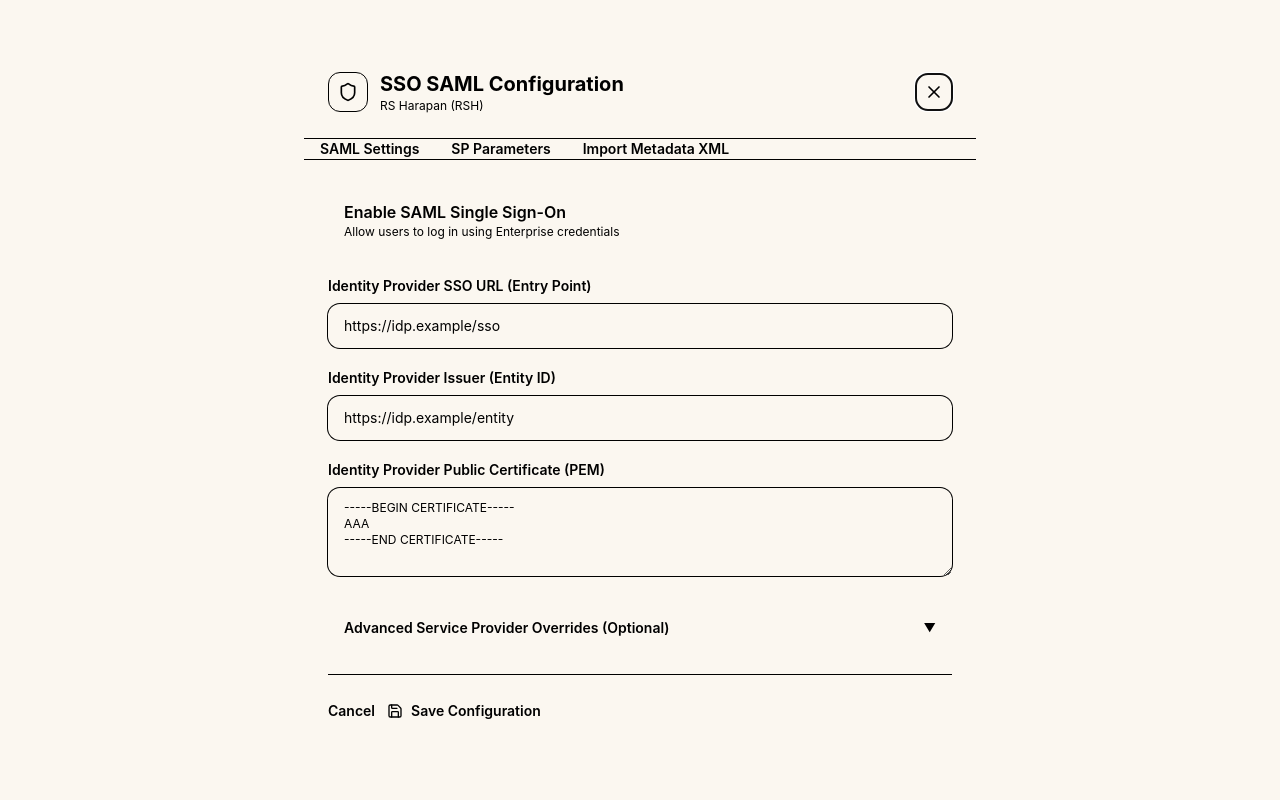
Test case: SsoSettingsPanel › a refused save shows the backend's reason and no success message
Expected: the field labelled "Identity Provider SSO URL (Entry Point)" holds "https://idp.example/sso", [328,304,952,348]
Click the button "Save Configuration" at (464, 710), box [387,690,541,730]
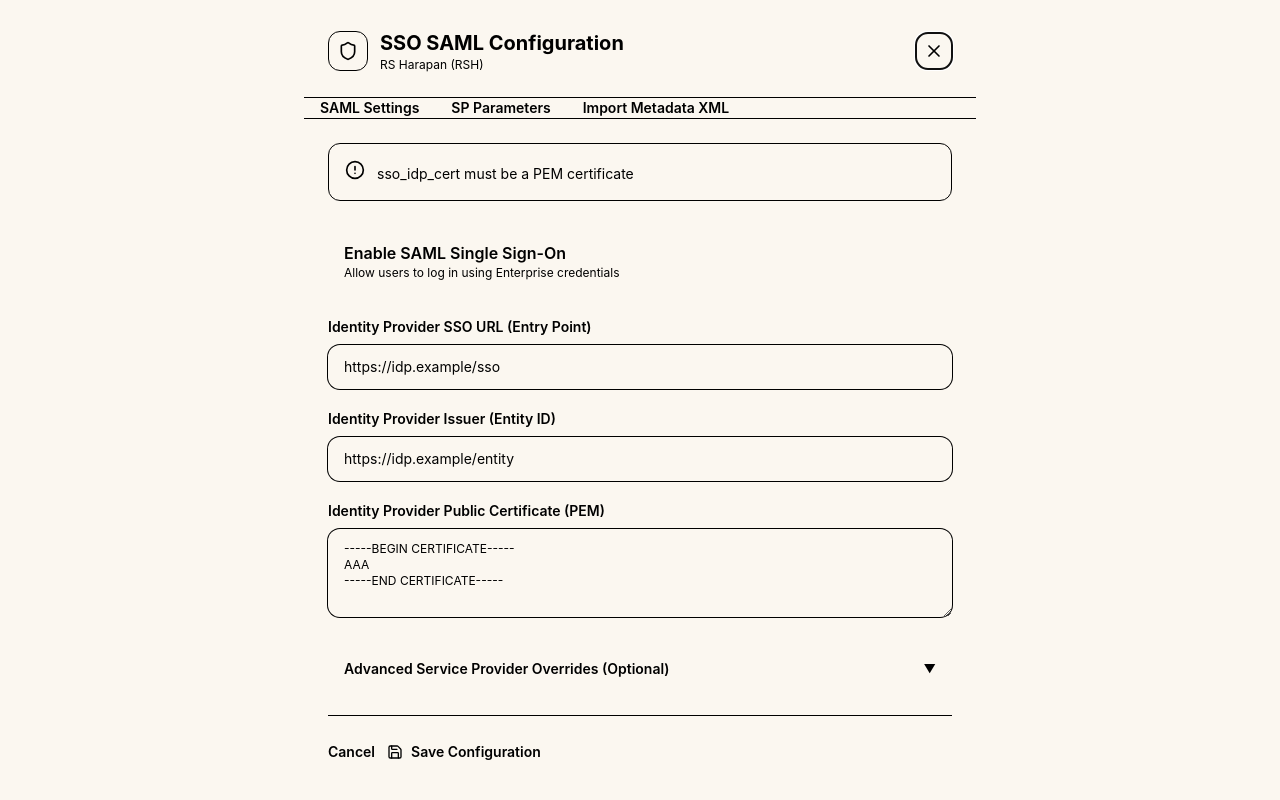
Now the text "sso_idp_cert must be a PEM certificate" is shown, box [377,164,634,182]
